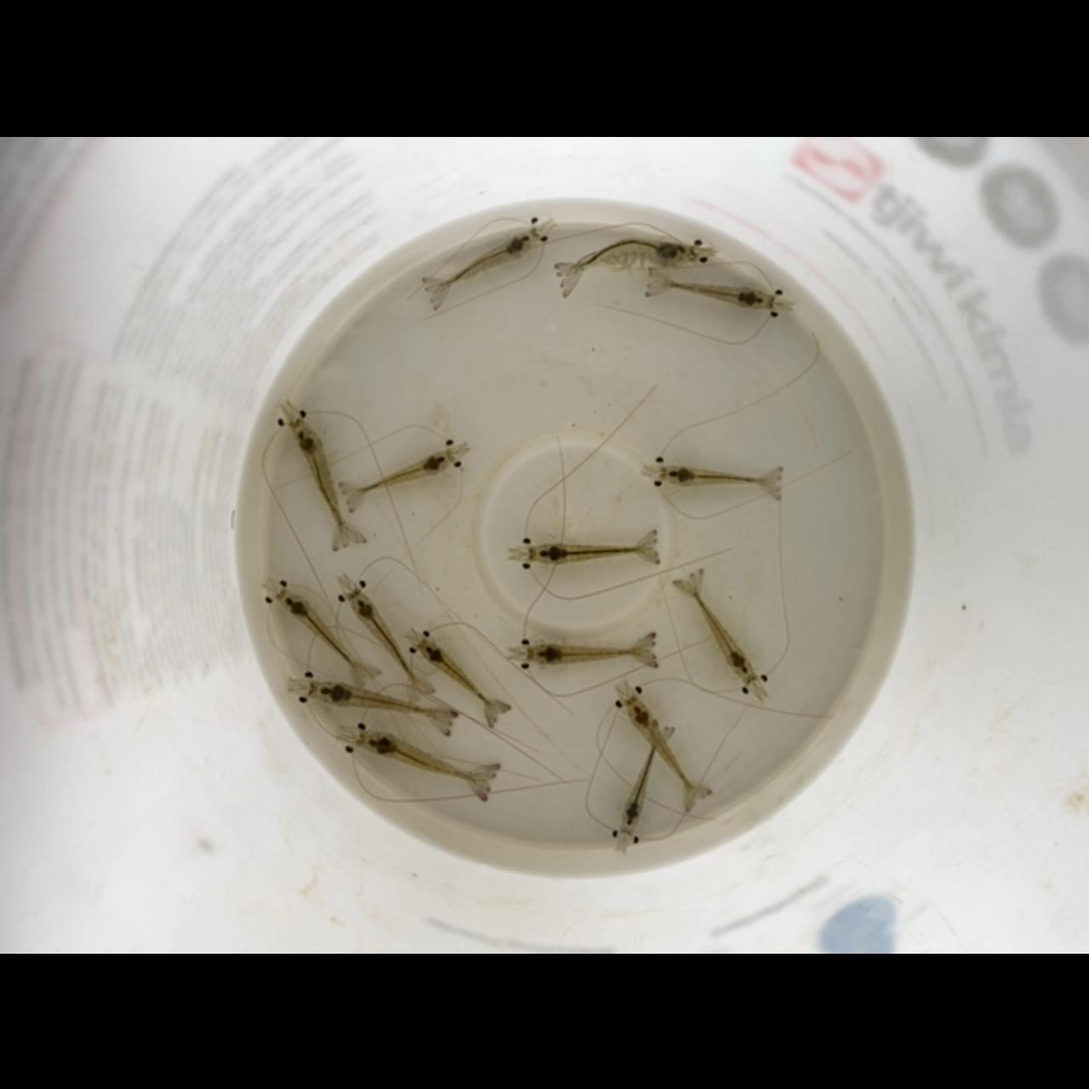round_base: (265, 219, 885, 847)
top_shrimp: (278, 590, 365, 673), (625, 697, 695, 795), (687, 581, 755, 681), (432, 229, 538, 292), (359, 729, 486, 781), (349, 590, 419, 684), (292, 421, 348, 538), (419, 639, 496, 710), (310, 679, 446, 718), (349, 450, 452, 494), (619, 726, 660, 835), (565, 238, 689, 274), (655, 281, 773, 309), (528, 643, 649, 664), (530, 543, 652, 563), (663, 465, 775, 486)
